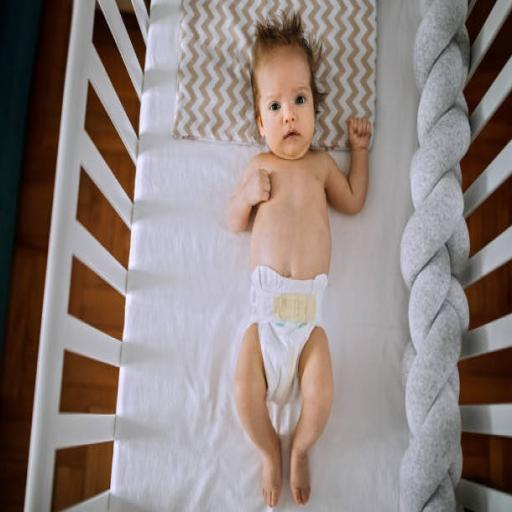baby: (227, 13, 370, 506)
crib: (309, 2, 511, 510)
